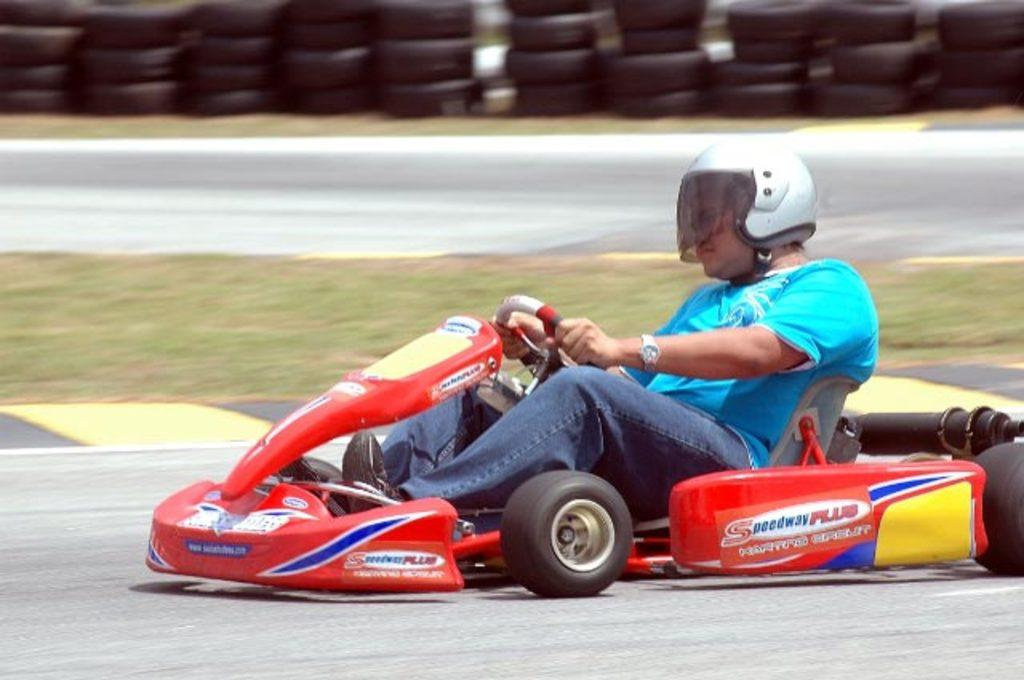helmet: (676, 135, 818, 264)
